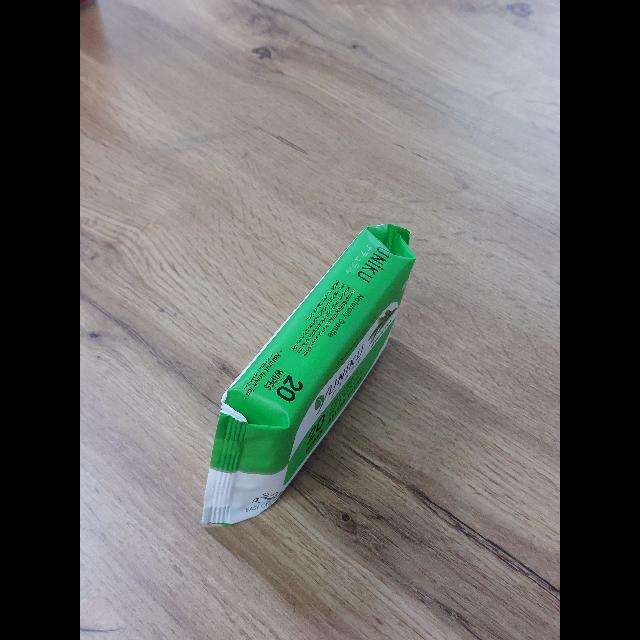khan_giay: (202, 224, 416, 525)
